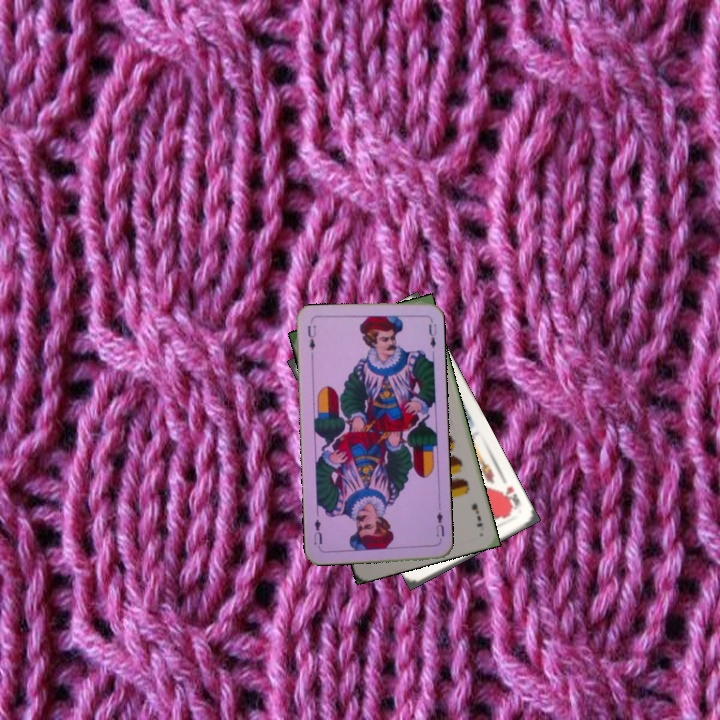E7: (468, 500, 485, 529)
EU: (432, 503, 446, 544), (303, 321, 319, 353)
HK: (498, 482, 523, 514)
